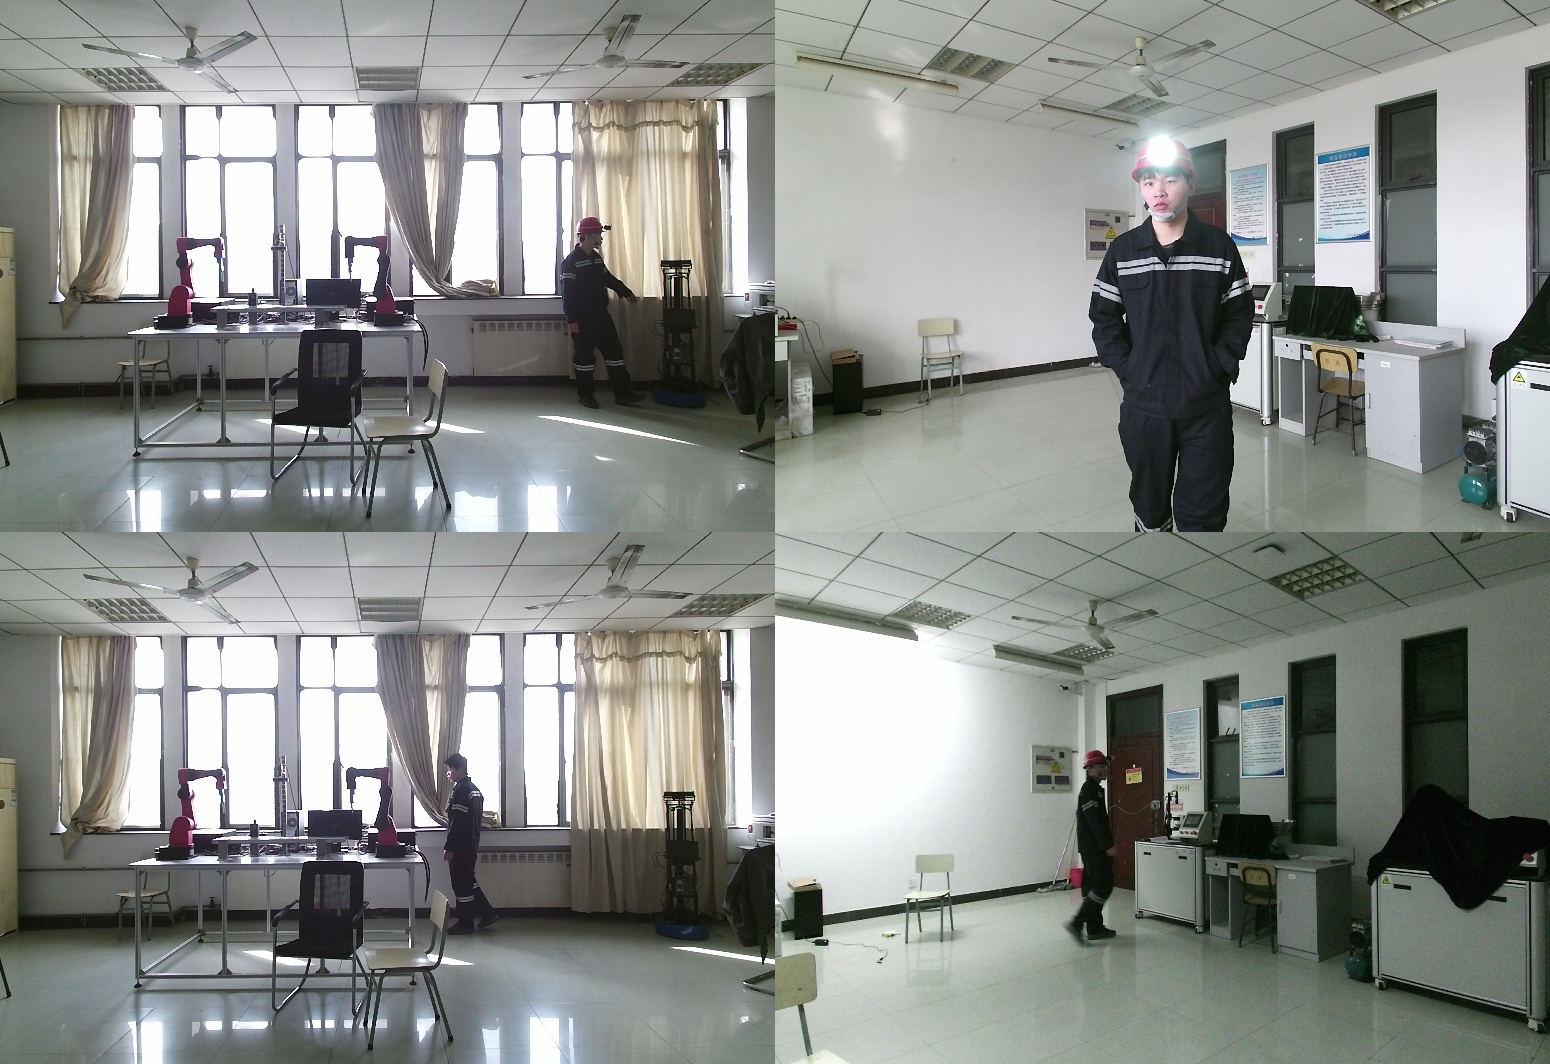person: (1089, 136, 1264, 532), (559, 218, 652, 419), (1055, 752, 1119, 953), (445, 752, 503, 941)
